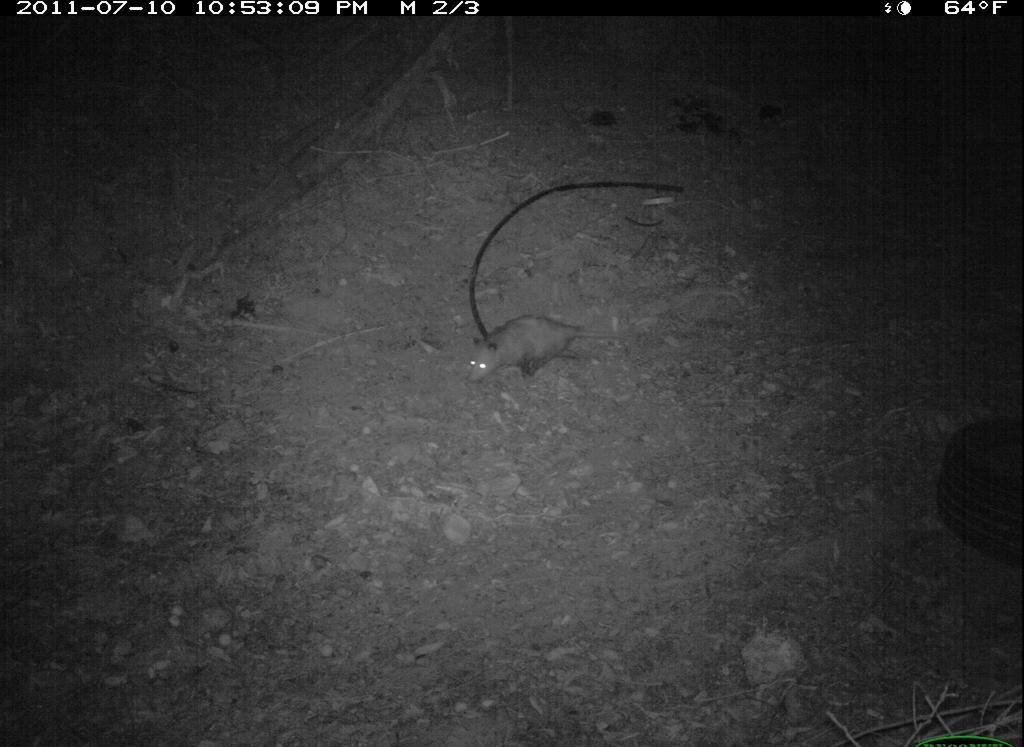opossum: (461, 318, 600, 381)
